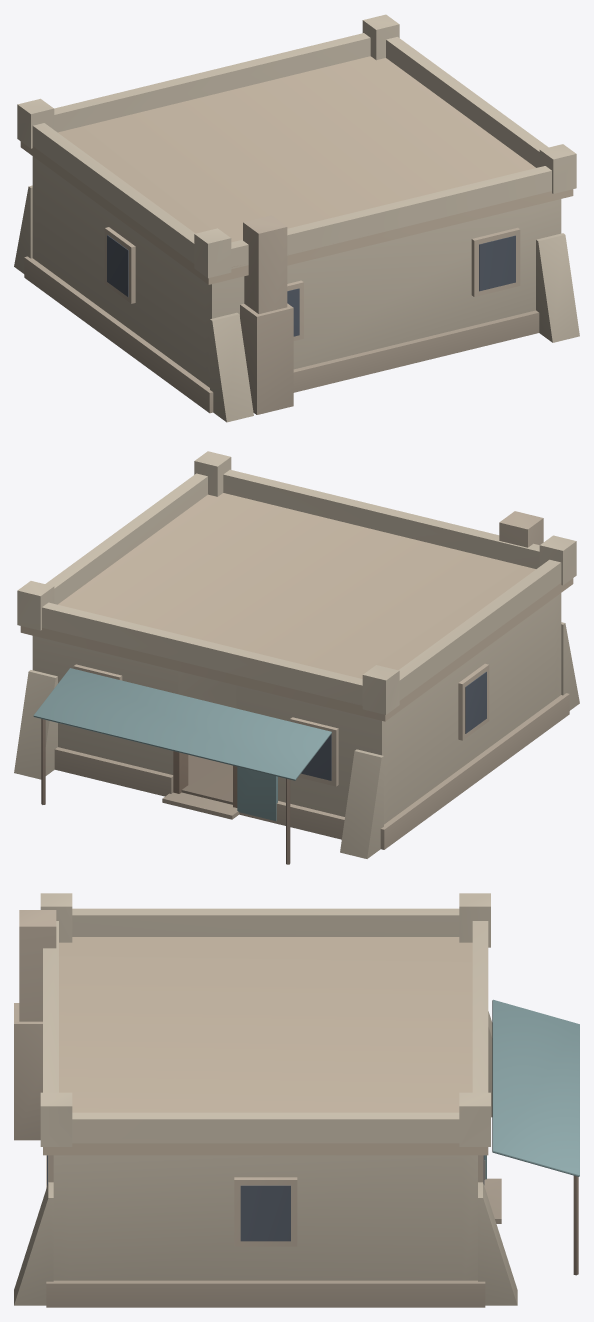
File: open_house_sun.gltf
3 renders of one model, top to bottom at view 1: azimuth 30°, elevation 25°; view 2: azimuth 150°, elevation 25°; view 3: azimuth 270°, elevation 25°, orthographic. The views are drawn at different scales.
Visible parts, largest first — view 1: Body; view 2: Body; view 3: Body.
Part boxes in pixels (bbox=[...]): Body: bbox=[14, 14, 579, 422]; Body: bbox=[14, 451, 579, 864]; Body: bbox=[14, 893, 579, 1307].
Size of the model in its own units: 9.5 by 4.4 by 10.68.
